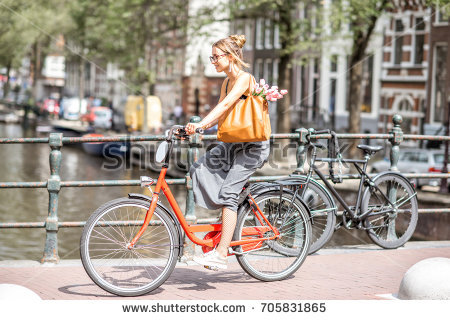bikerider: (94, 35, 319, 285)
